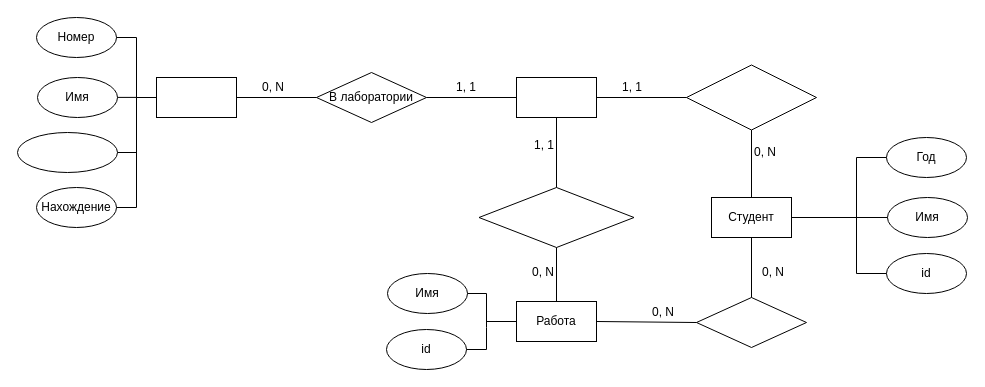
This 985x387 diagram has some shape labels left out. The centre of each missing label's shape, as x and y in pixels:
Вместительность: (67,152)
Запланированная работа: (556,217)
Запланировано для студента: (751,97)
Лаборатория: (196,97)
Отчет: (751,322)
План: (556,97)
